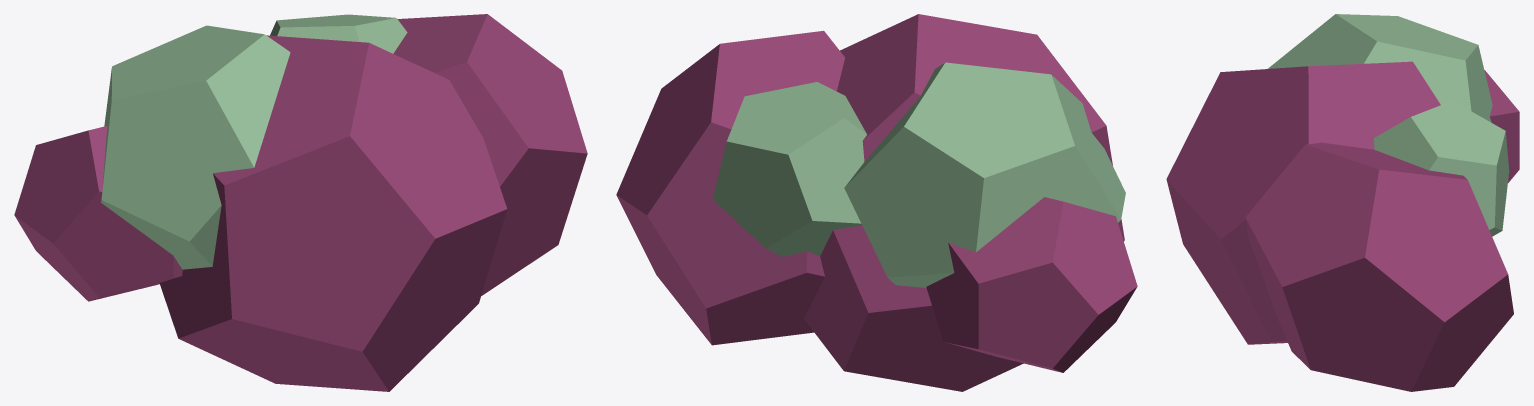
The model's file is fairy_stone.glb.
3 renders of one model, left to right at view 1: azimuth 30°, elevation 25°; view 2: azimuth 150°, elevation 25°; view 3: azimuth 270°, elevation 25°, orthographic. The views are drawn at different scales.
Parts seen in each view (by area): view 1: rock_2, rock_1, rock_4, rock_0, rock_3; view 2: rock_1, rock_4, rock_2, rock_0, rock_3; view 3: rock_4, rock_2, rock_1, rock_3, rock_0.
Part boxes in pixels (left/top/right/bottom): rock_2: left=159, top=35, right=507, bottom=391; rock_1: left=101, top=25, right=290, bottom=269; rock_4: left=393, top=14, right=587, bottom=295; rock_0: left=14, top=126, right=182, bottom=301; rock_3: left=270, top=14, right=407, bottom=53; rock_1: left=844, top=62, right=1125, bottom=287; rock_4: left=616, top=30, right=845, bottom=345; rock_2: left=804, top=14, right=1124, bottom=391; rock_0: left=926, top=197, right=1137, bottom=372; rock_3: left=712, top=82, right=866, bottom=256; rock_4: left=1245, top=142, right=1513, bottom=391; rock_2: left=1166, top=61, right=1440, bottom=344; rock_1: left=1268, top=14, right=1492, bottom=122; rock_3: left=1374, top=101, right=1509, bottom=236; rock_0: left=1484, top=70, right=1519, bottom=182.
Size of what is drawn, in the model's own units: 2.86 by 1.9 by 2.01.
